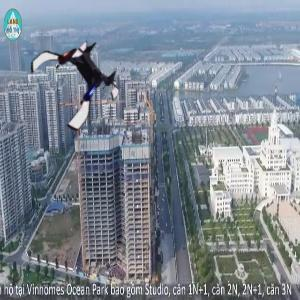drone: (29, 33, 122, 126)
